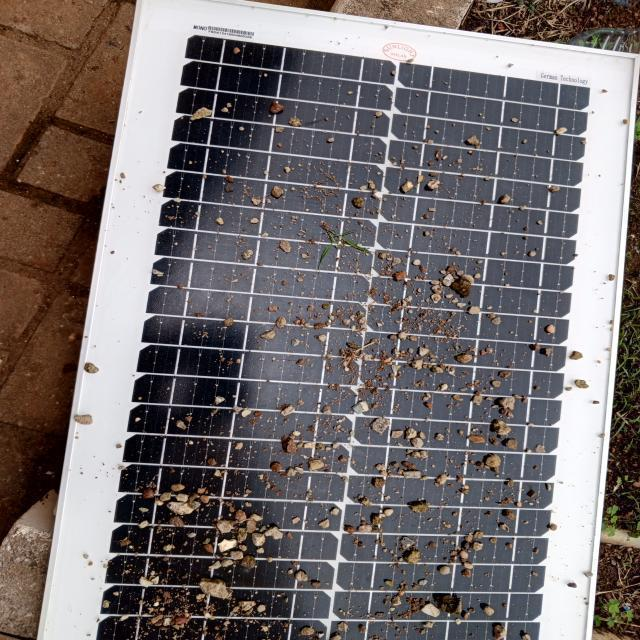Surface Contaminant: (149, 87, 582, 637)
